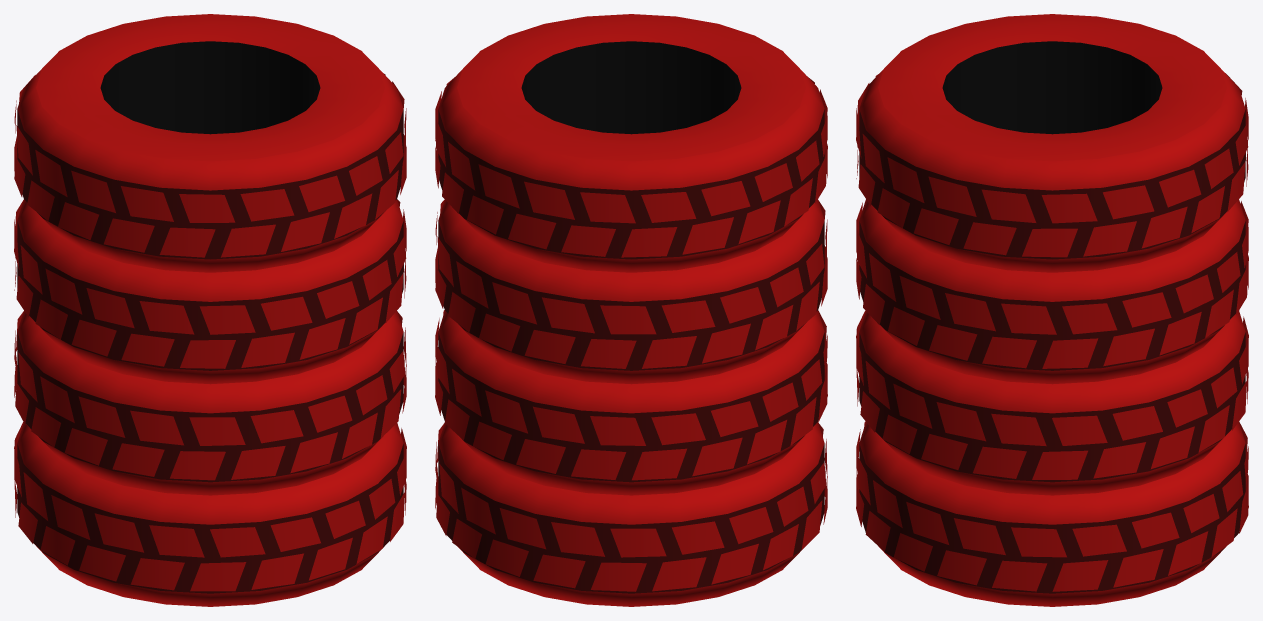
File: tire_stack_red.dae
3 renders of one model, left to right at view 1: azimuth 30°, elevation 25°; view 2: azimuth 150°, elevation 25°; view 3: azimuth 270°, elevation 25°, orthographic.
Visible parts, largest first — view 1: tire_stack_red; view 2: tire_stack_red; view 3: tire_stack_red.
Part boxes in pixels (left/top/right/bottom): tire_stack_red: left=14, top=14, right=406, bottom=606; tire_stack_red: left=435, top=14, right=827, bottom=606; tire_stack_red: left=856, top=14, right=1248, bottom=606.
Size of the model in its own units: 0.671 by 0.671 by 0.846.
